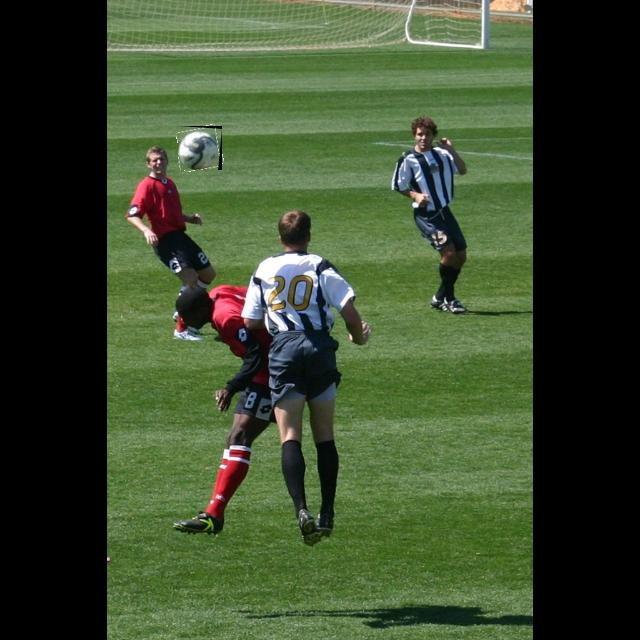Football: (178, 126, 222, 170)
